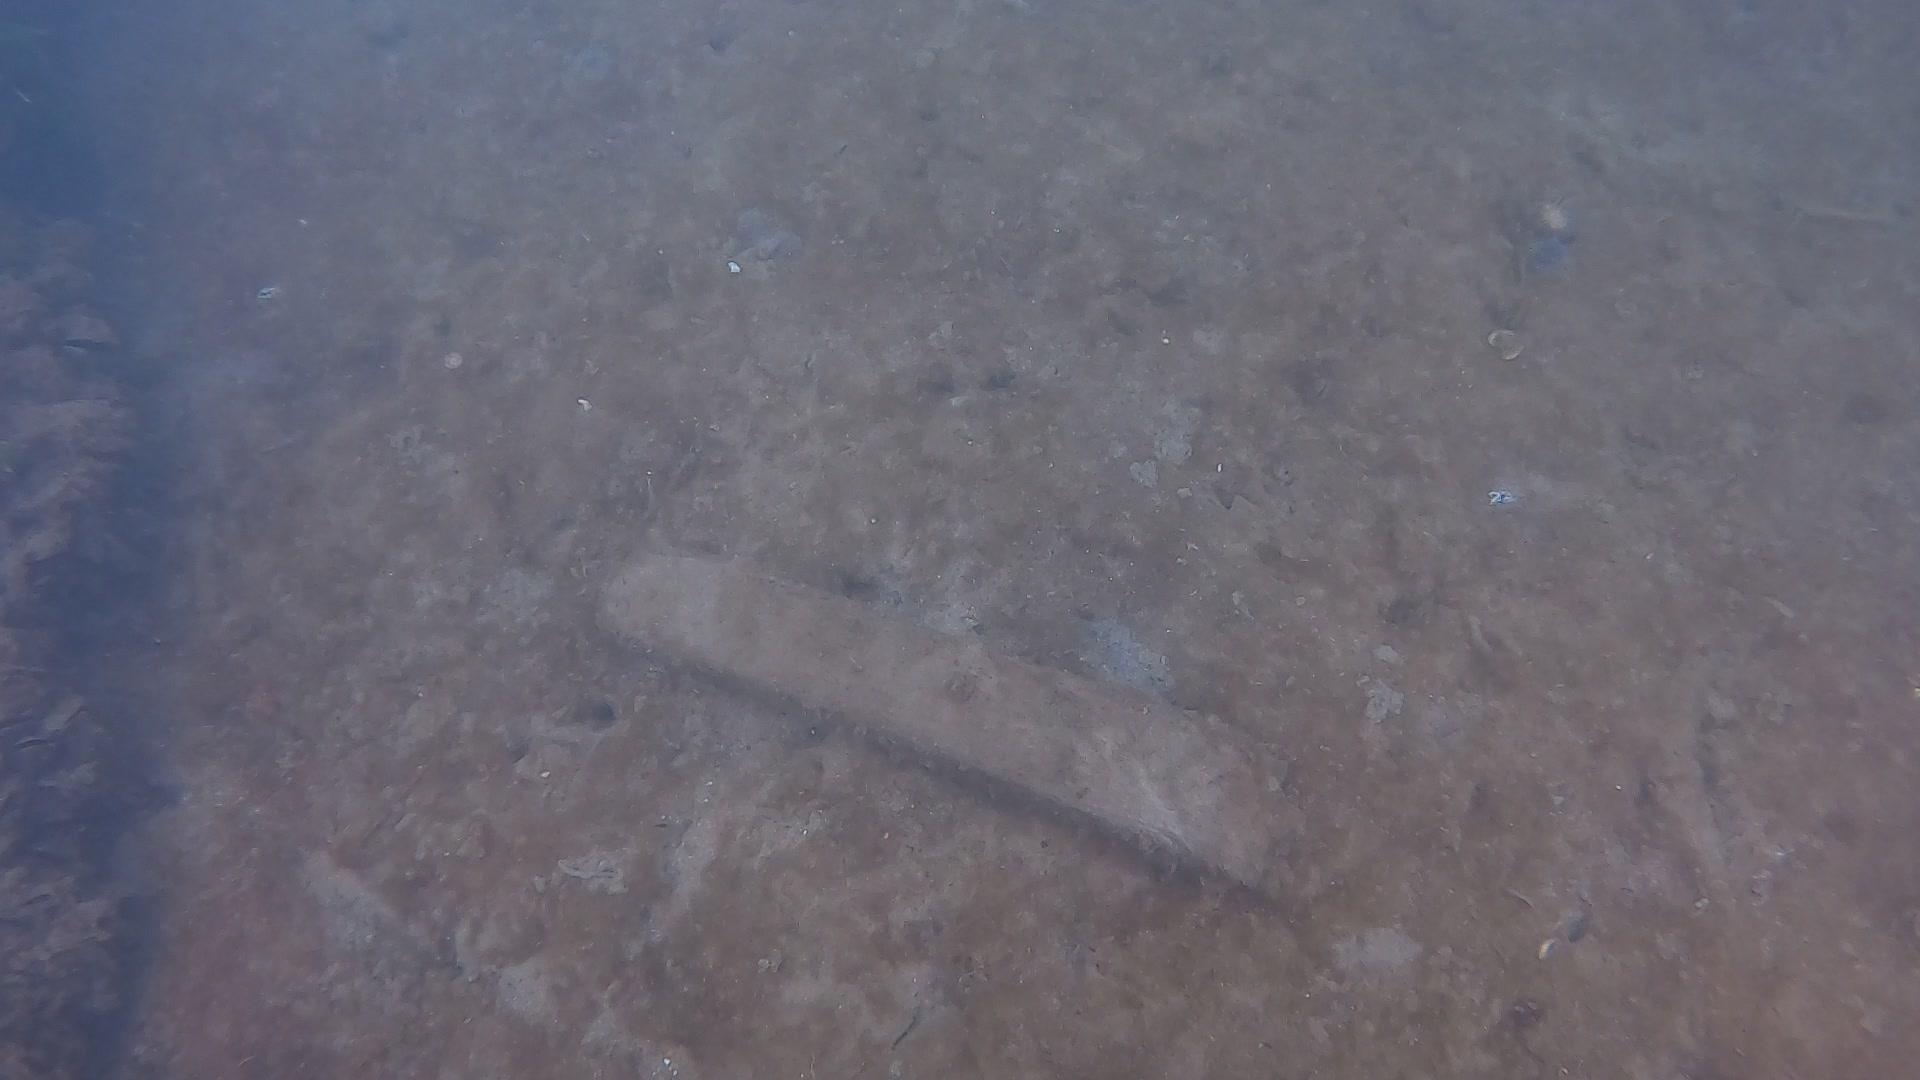wood: (587, 545, 1393, 916)
